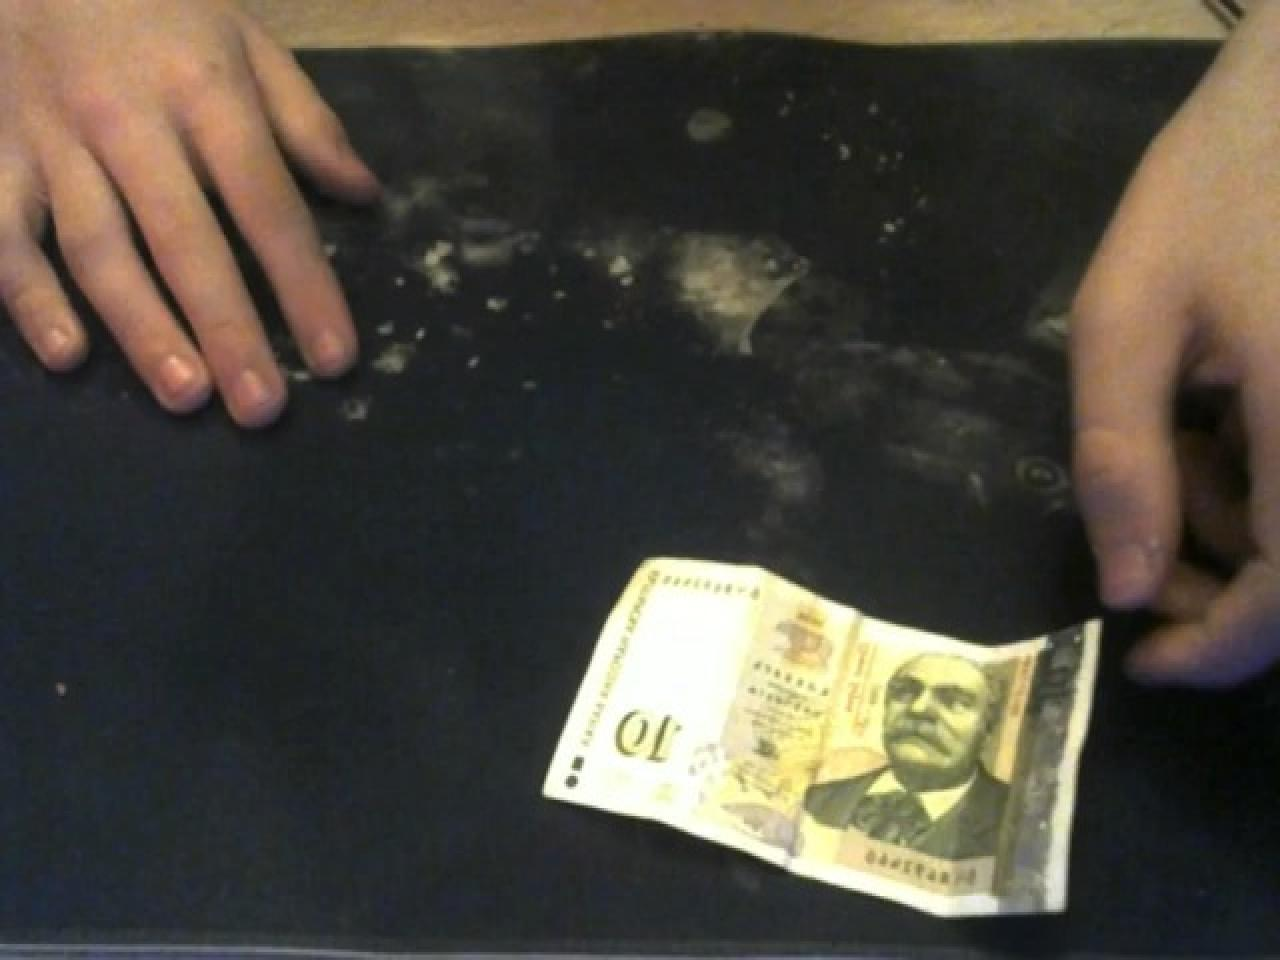10leva: (542, 558, 1106, 923)
